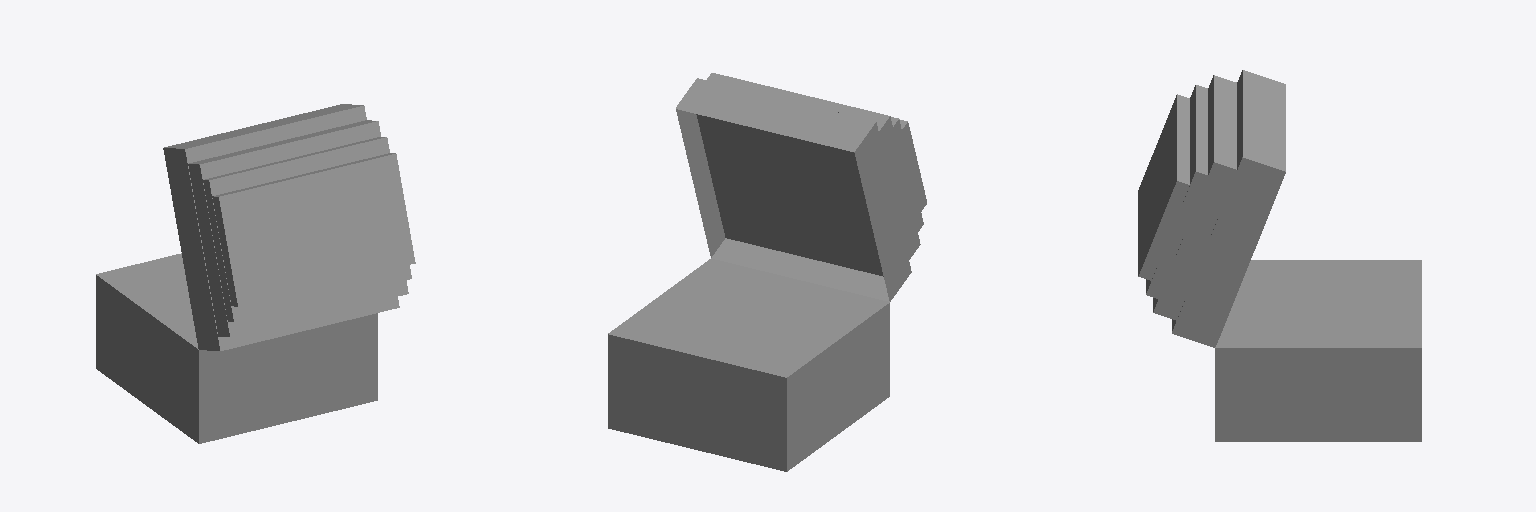
Rendered from chest_open.obj.
The picture shows the model from 3 angles: view 1: azimuth 30°, elevation 25°; view 2: azimuth 150°, elevation 25°; view 3: azimuth 270°, elevation 25°; orthographic projection.
Parts seen in each view (by area): view 1: Cube.004_Cube.005; view 2: Cube.004_Cube.005; view 3: Cube.004_Cube.005.
Part boxes in pixels (x1,y1,x2,y2): Cube.004_Cube.005: (96,104,415,443); Cube.004_Cube.005: (608,73,926,471); Cube.004_Cube.005: (1138,70,1421,441).
Size of the model in its own units: 2 by 3.04 by 2.73.